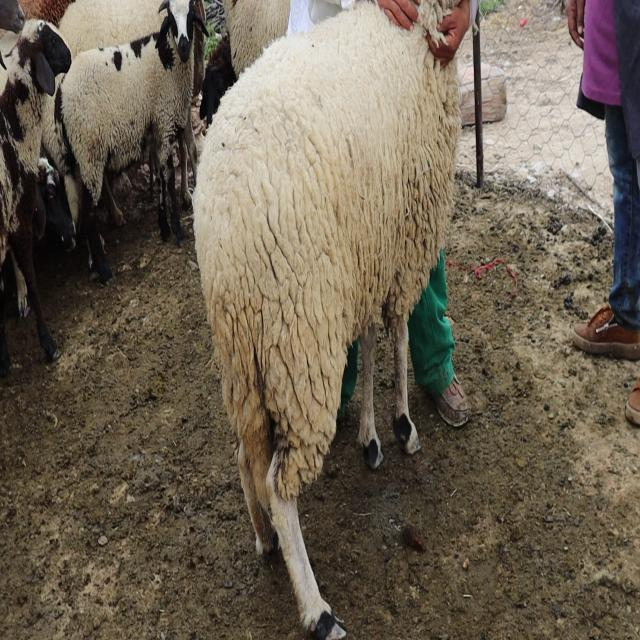Score_5: (193, 0, 460, 639)
